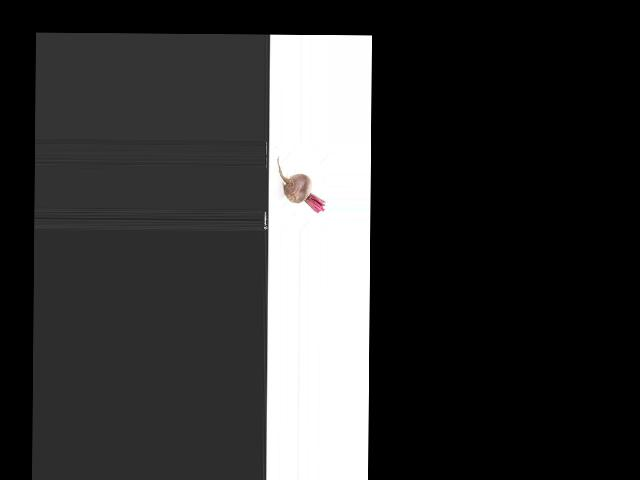beet: (276, 156, 325, 212)
